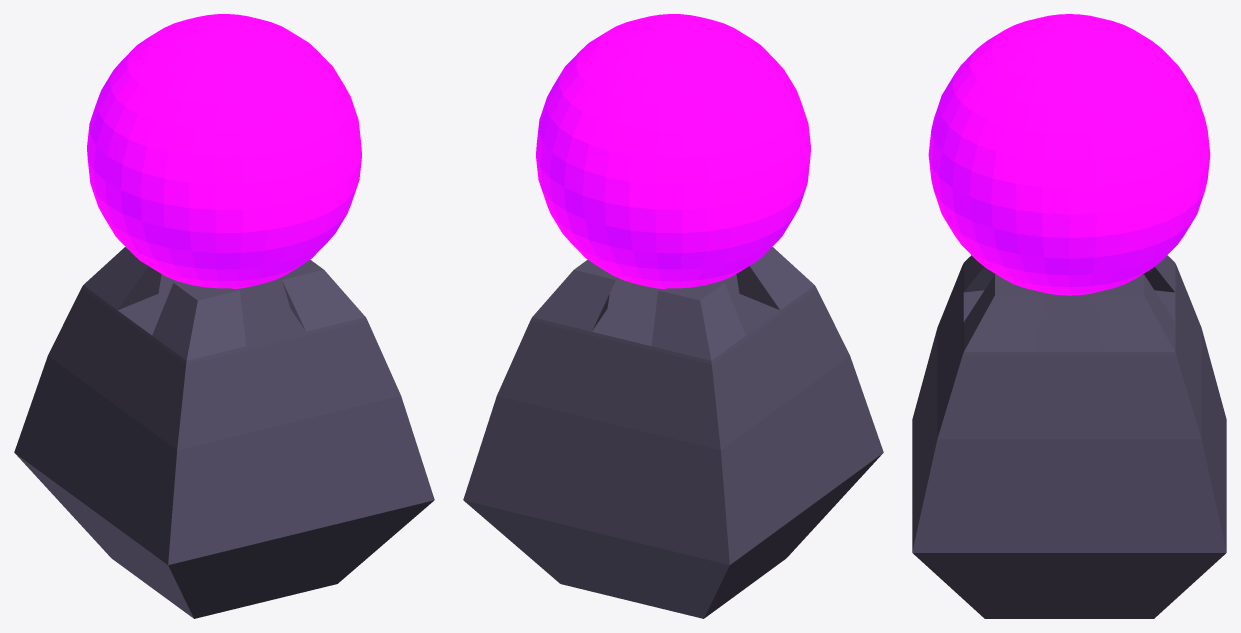
Rendered from ESFERA.fbx.
3 renders of one model, left to right at view 1: azimuth 30°, elevation 25°; view 2: azimuth 150°, elevation 25°; view 3: azimuth 270°, elevation 25°, orthographic. The views are drawn at different scales.
Parts seen in each view (by area): view 1: Cube.001, Sphere; view 2: Cube.001, Sphere; view 3: Cube.001, Sphere.
Part boxes in pixels (box(x1,y1,x2,y2)): Cube.001: box(14, 247, 434, 618); Sphere: box(87, 14, 361, 288); Cube.001: box(463, 247, 883, 618); Sphere: box(536, 14, 810, 288); Cube.001: box(912, 255, 1226, 618); Sphere: box(928, 14, 1210, 295).
Size of the model in its own units: 223 by 435 by 223.
